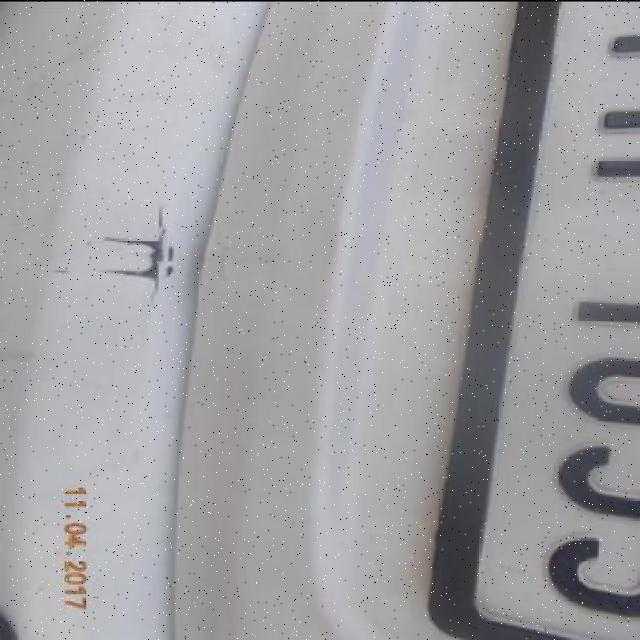damage: (99, 204, 178, 301)
